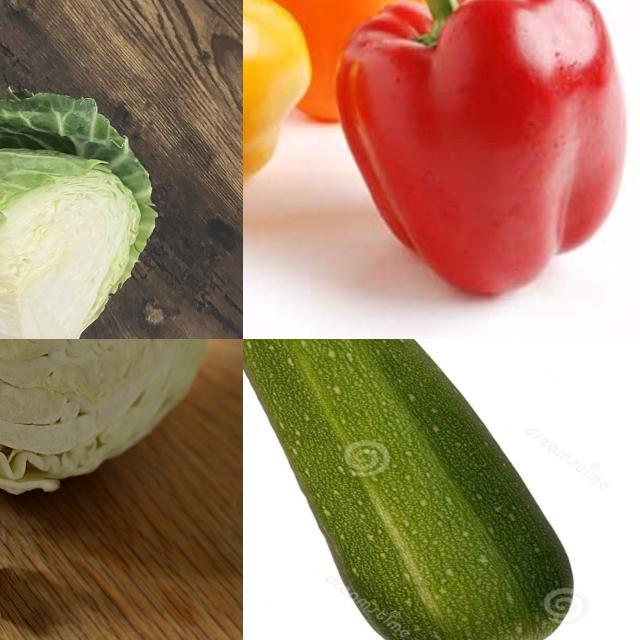bell_pepper: (338, 1, 626, 299), (244, 1, 438, 128)
cabbage: (1, 92, 159, 340), (1, 340, 244, 494)
zucchini: (244, 340, 600, 640)
